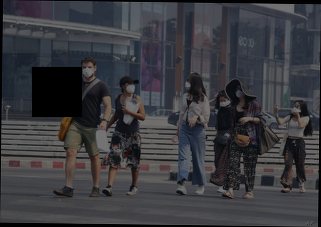with_mask: (82, 65, 96, 79), (125, 81, 137, 94), (235, 85, 246, 99), (219, 99, 230, 108), (293, 104, 302, 115), (185, 77, 192, 91)
